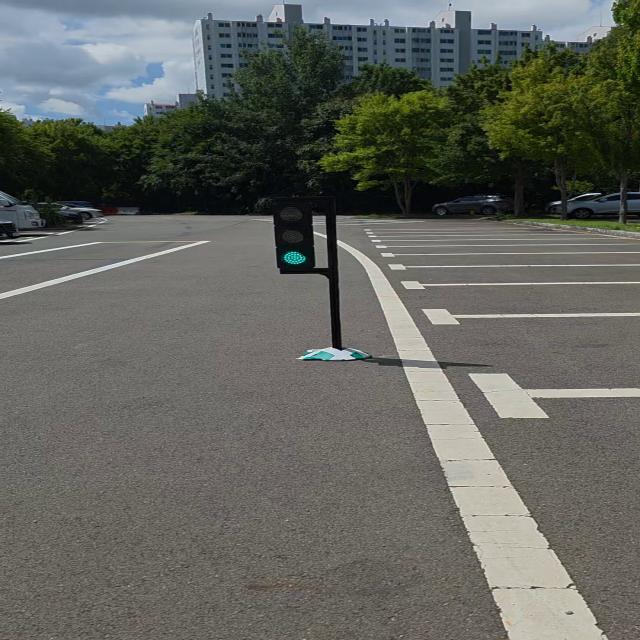green: (271, 201, 319, 275)
